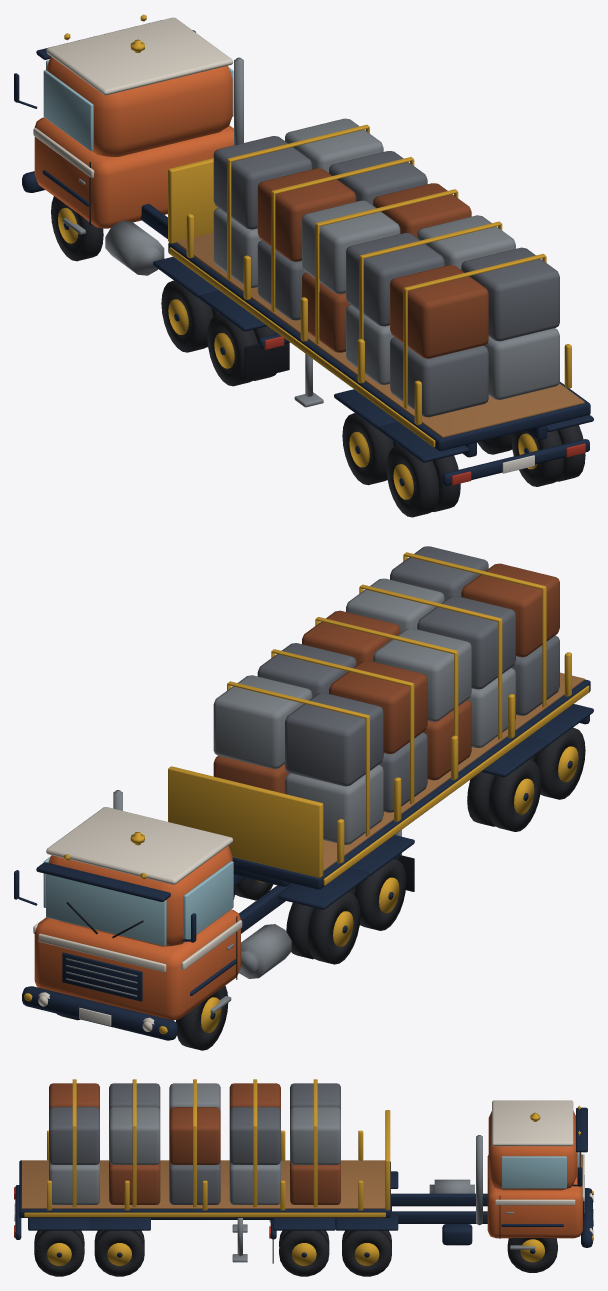
Rendered from TrailerKartun.fbx.
The picture shows the model from 3 angles, top to bottom: view 1: azimuth 30°, elevation 25°; view 2: azimuth 150°, elevation 25°; view 3: azimuth 270°, elevation 25°; orthographic projection. The views are drawn at different scales.
Parts seen in each view (by area): view 1: Deck, Body, DeckWheel_2L, Wheel_2L, Wheel_3L, DeckWheel_1L, DeckWheel_2R, Wheel_1L; view 2: Deck, Body, DeckWheel_1L, Wheel_2L, Wheel_3L, DeckWheel_2L, Wheel_1L; view 3: Deck, Body, DeckWheel_1R, Wheel_3R, DeckWheel_2R, Wheel_2R, Wheel_1R.
Part boxes in pixels (left/top/right/bottom): Deck: left=168, top=118, right=593, bottom=485; Body: left=14, top=14, right=289, bottom=380; DeckWheel_2L: left=386, top=445, right=460, bottom=517; Wheel_2L: left=161, top=280, right=219, bottom=352; Wheel_3L: left=207, top=314, right=277, bottom=386; DeckWheel_1L: left=342, top=413, right=398, bottom=485; DeckWheel_2R: left=511, top=425, right=585, bottom=486; Wheel_1L: left=51, top=196, right=103, bottom=261; Deck: left=168, top=546, right=593, bottom=889; Body: left=14, top=790, right=414, bottom=1040; DeckWheel_1L: left=467, top=760, right=541, bottom=831; Wheel_2L: left=286, top=892, right=360, bottom=964; Wheel_3L: left=348, top=859, right=406, bottom=930; DeckWheel_2L: left=529, top=727, right=585, bottom=799; Wheel_1L: left=176, top=985, right=228, bottom=1050; Deck: left=14, top=1079, right=390, bottom=1262; Body: left=269, top=1100, right=593, bottom=1263; DeckWheel_1R: left=94, top=1230, right=144, bottom=1276; Wheel_3R: left=279, top=1230, right=329, bottom=1276; DeckWheel_2R: left=34, top=1230, right=84, bottom=1276; Wheel_2R: left=342, top=1230, right=391, bottom=1276; Wheel_1R: left=507, top=1238, right=557, bottom=1272.
Bounding box in the file's own units: 2.83 × 3.23 × 11.55.
